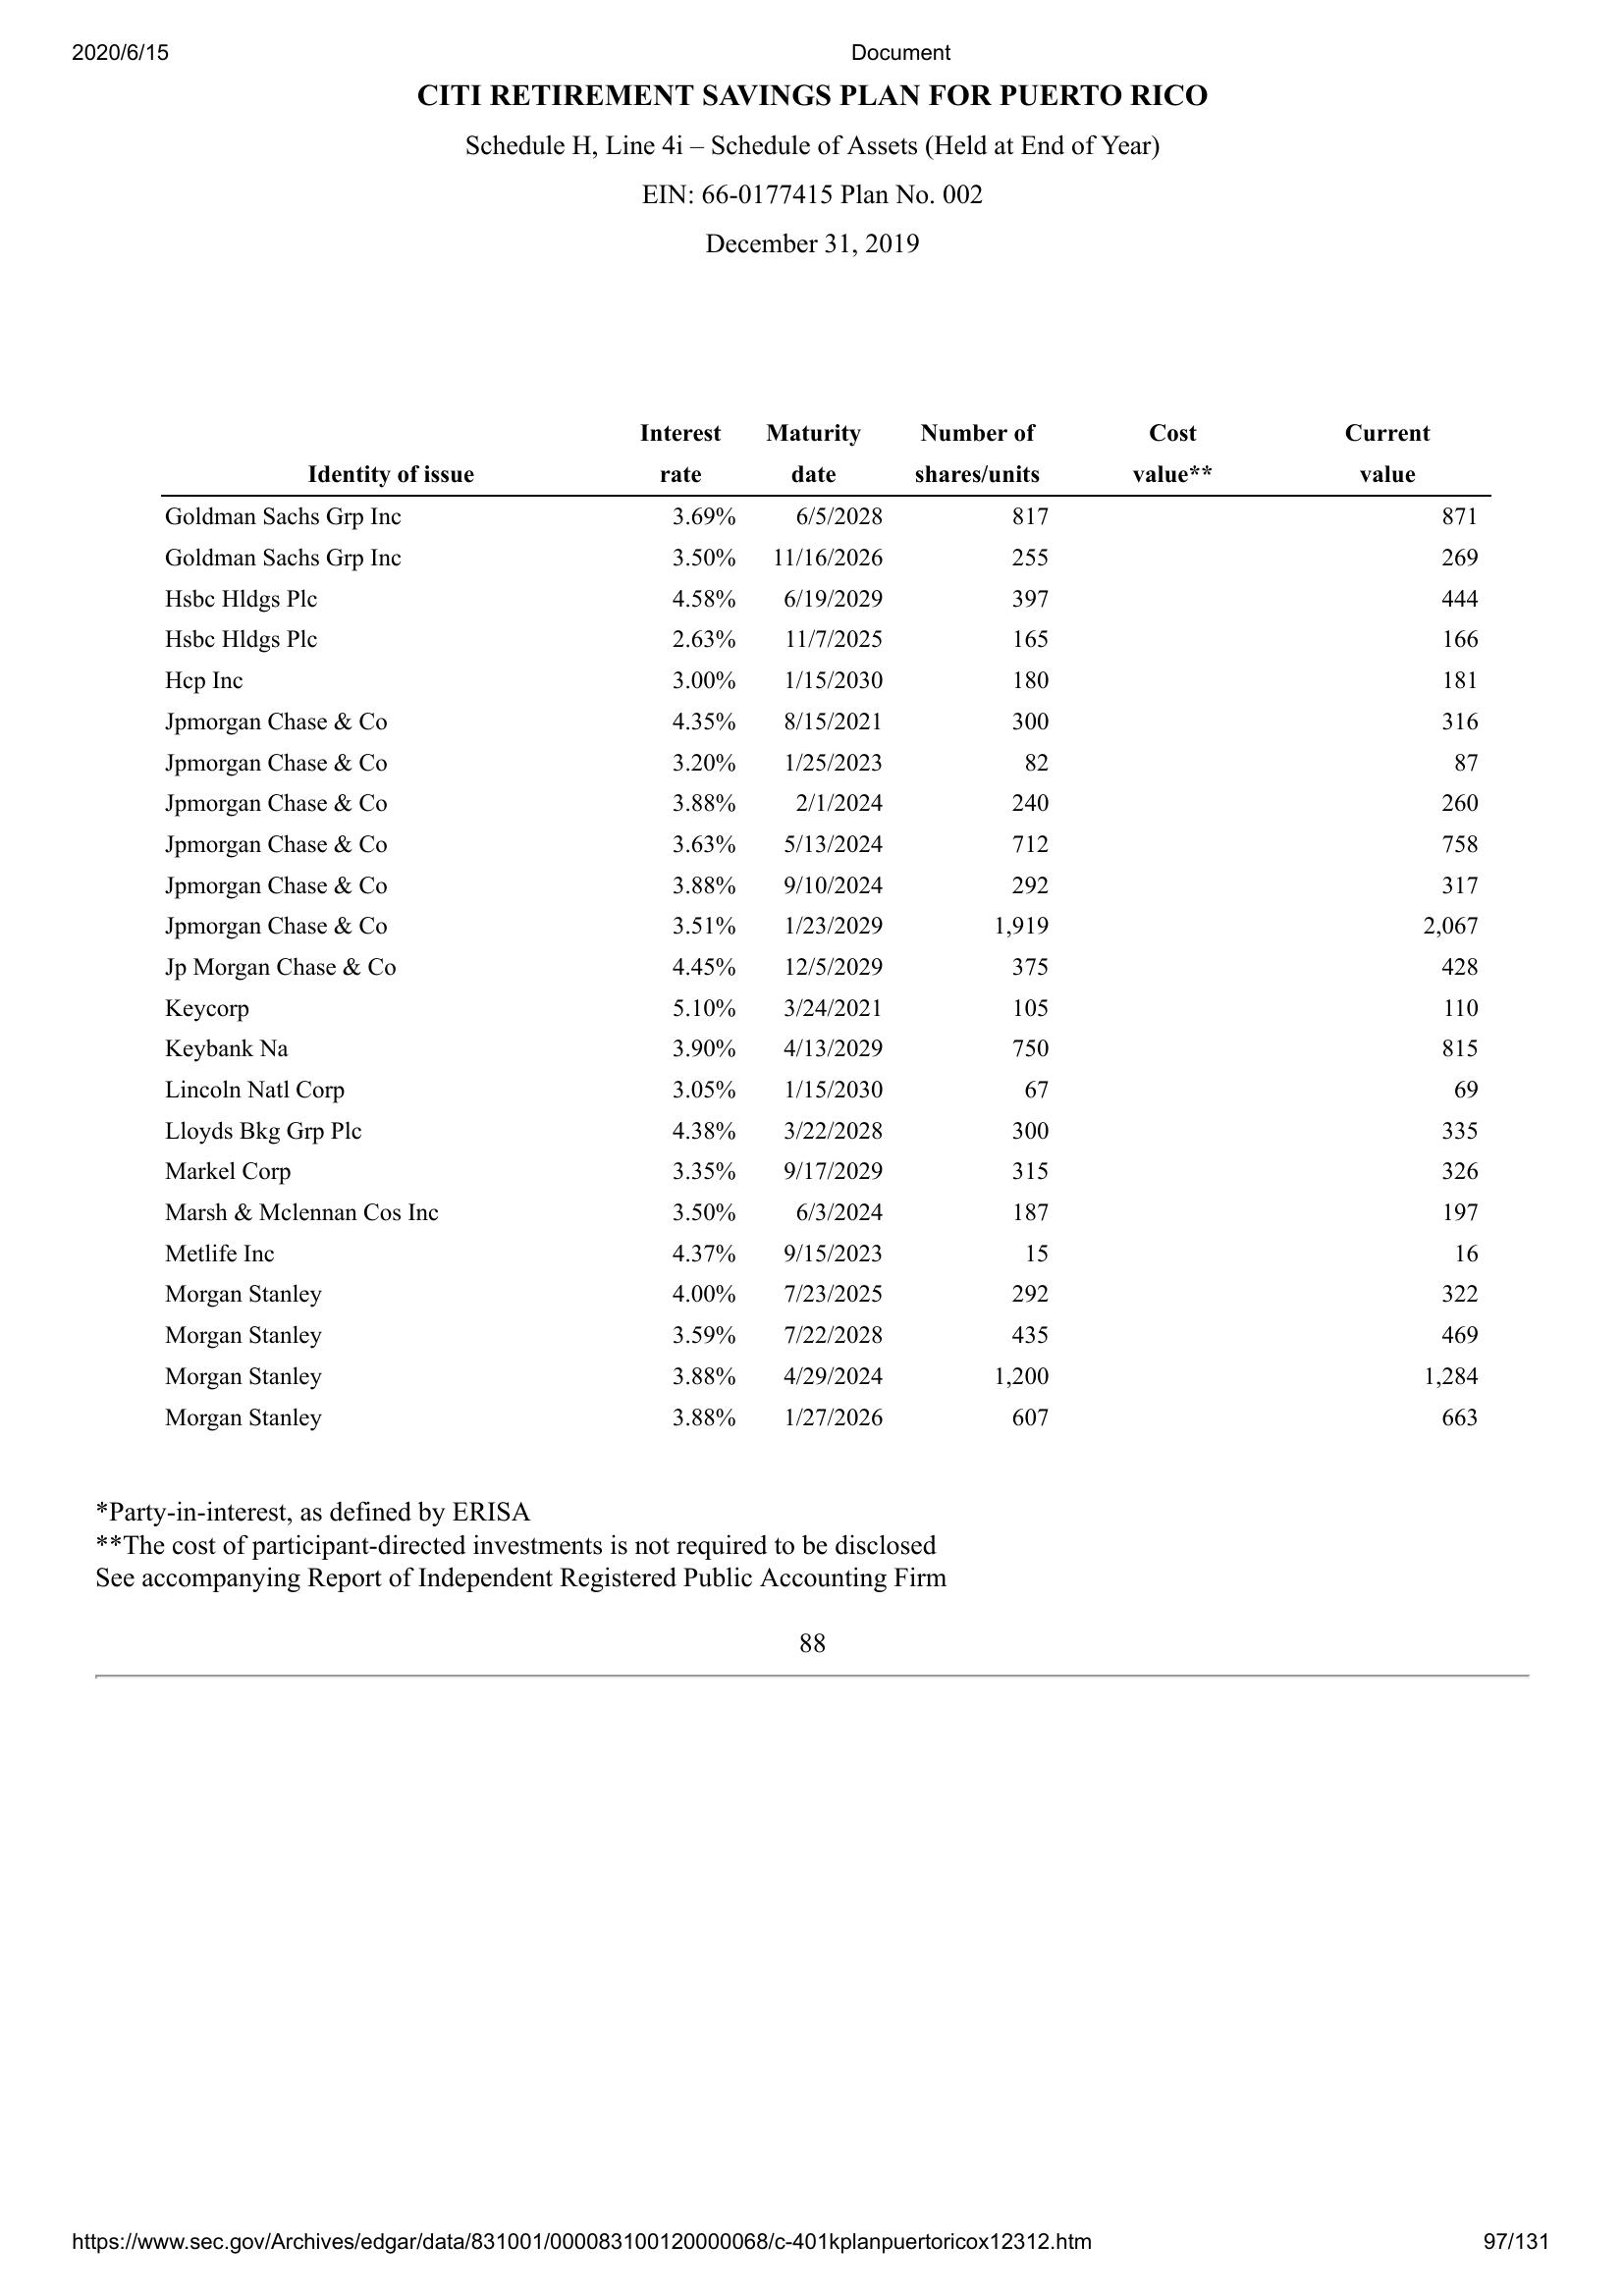table: (146, 411, 1490, 1450)
